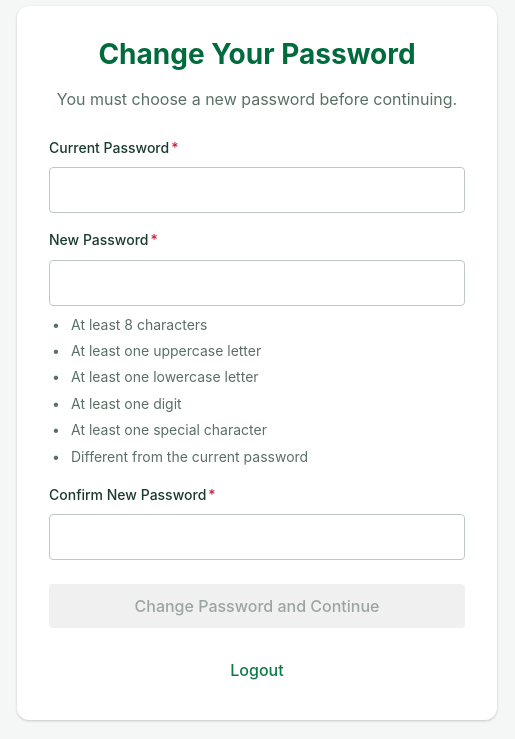
Auth gates (UI-04) › logout from the Change Password screen returns to the Login screen
The width and height of the screenshot is (515, 739).
Expected: the password field with test id "current-password" is shown, top-left (49, 167), bottom-right (465, 213)
Click the button with test id "change-password-logout" at (257, 670), box top-left (214, 652), bottom-right (300, 688)
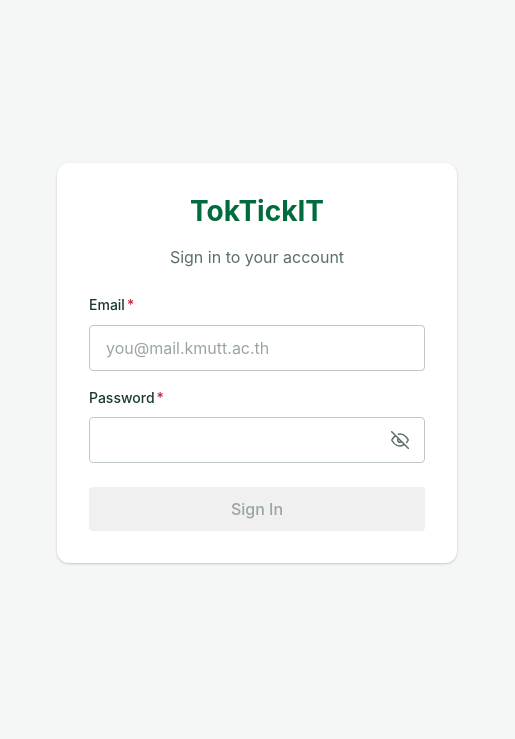
Result: the field with test id "login-email" is shown at top-left (89, 325), bottom-right (425, 371)
